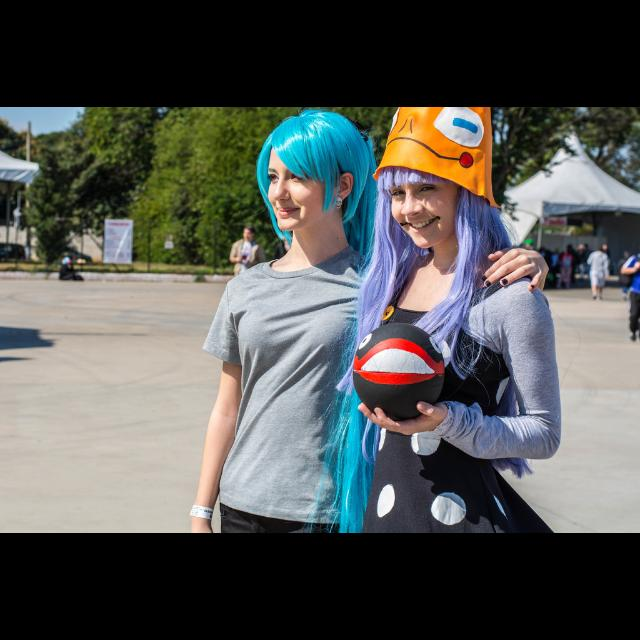Football: (352, 322, 444, 418)
